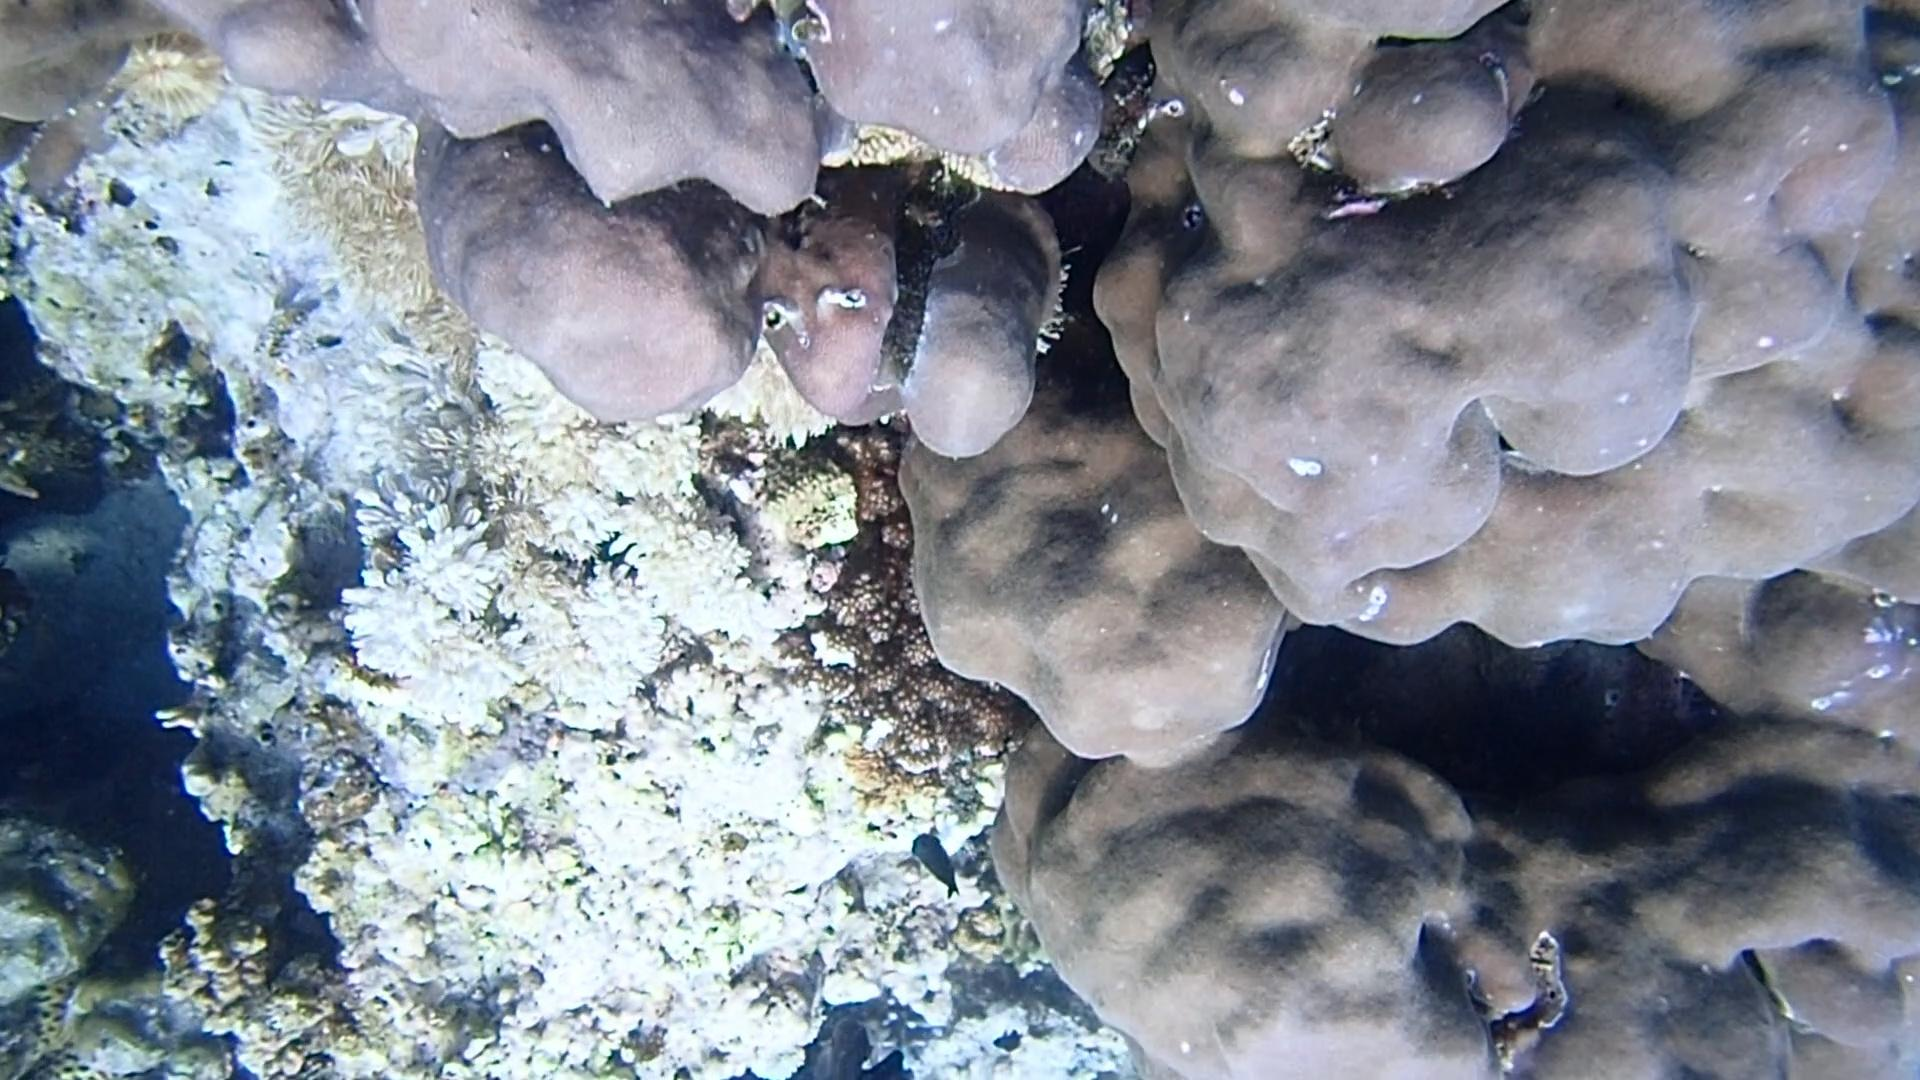Dark Fish: (907, 829, 968, 903), (988, 1021, 1029, 1062)
